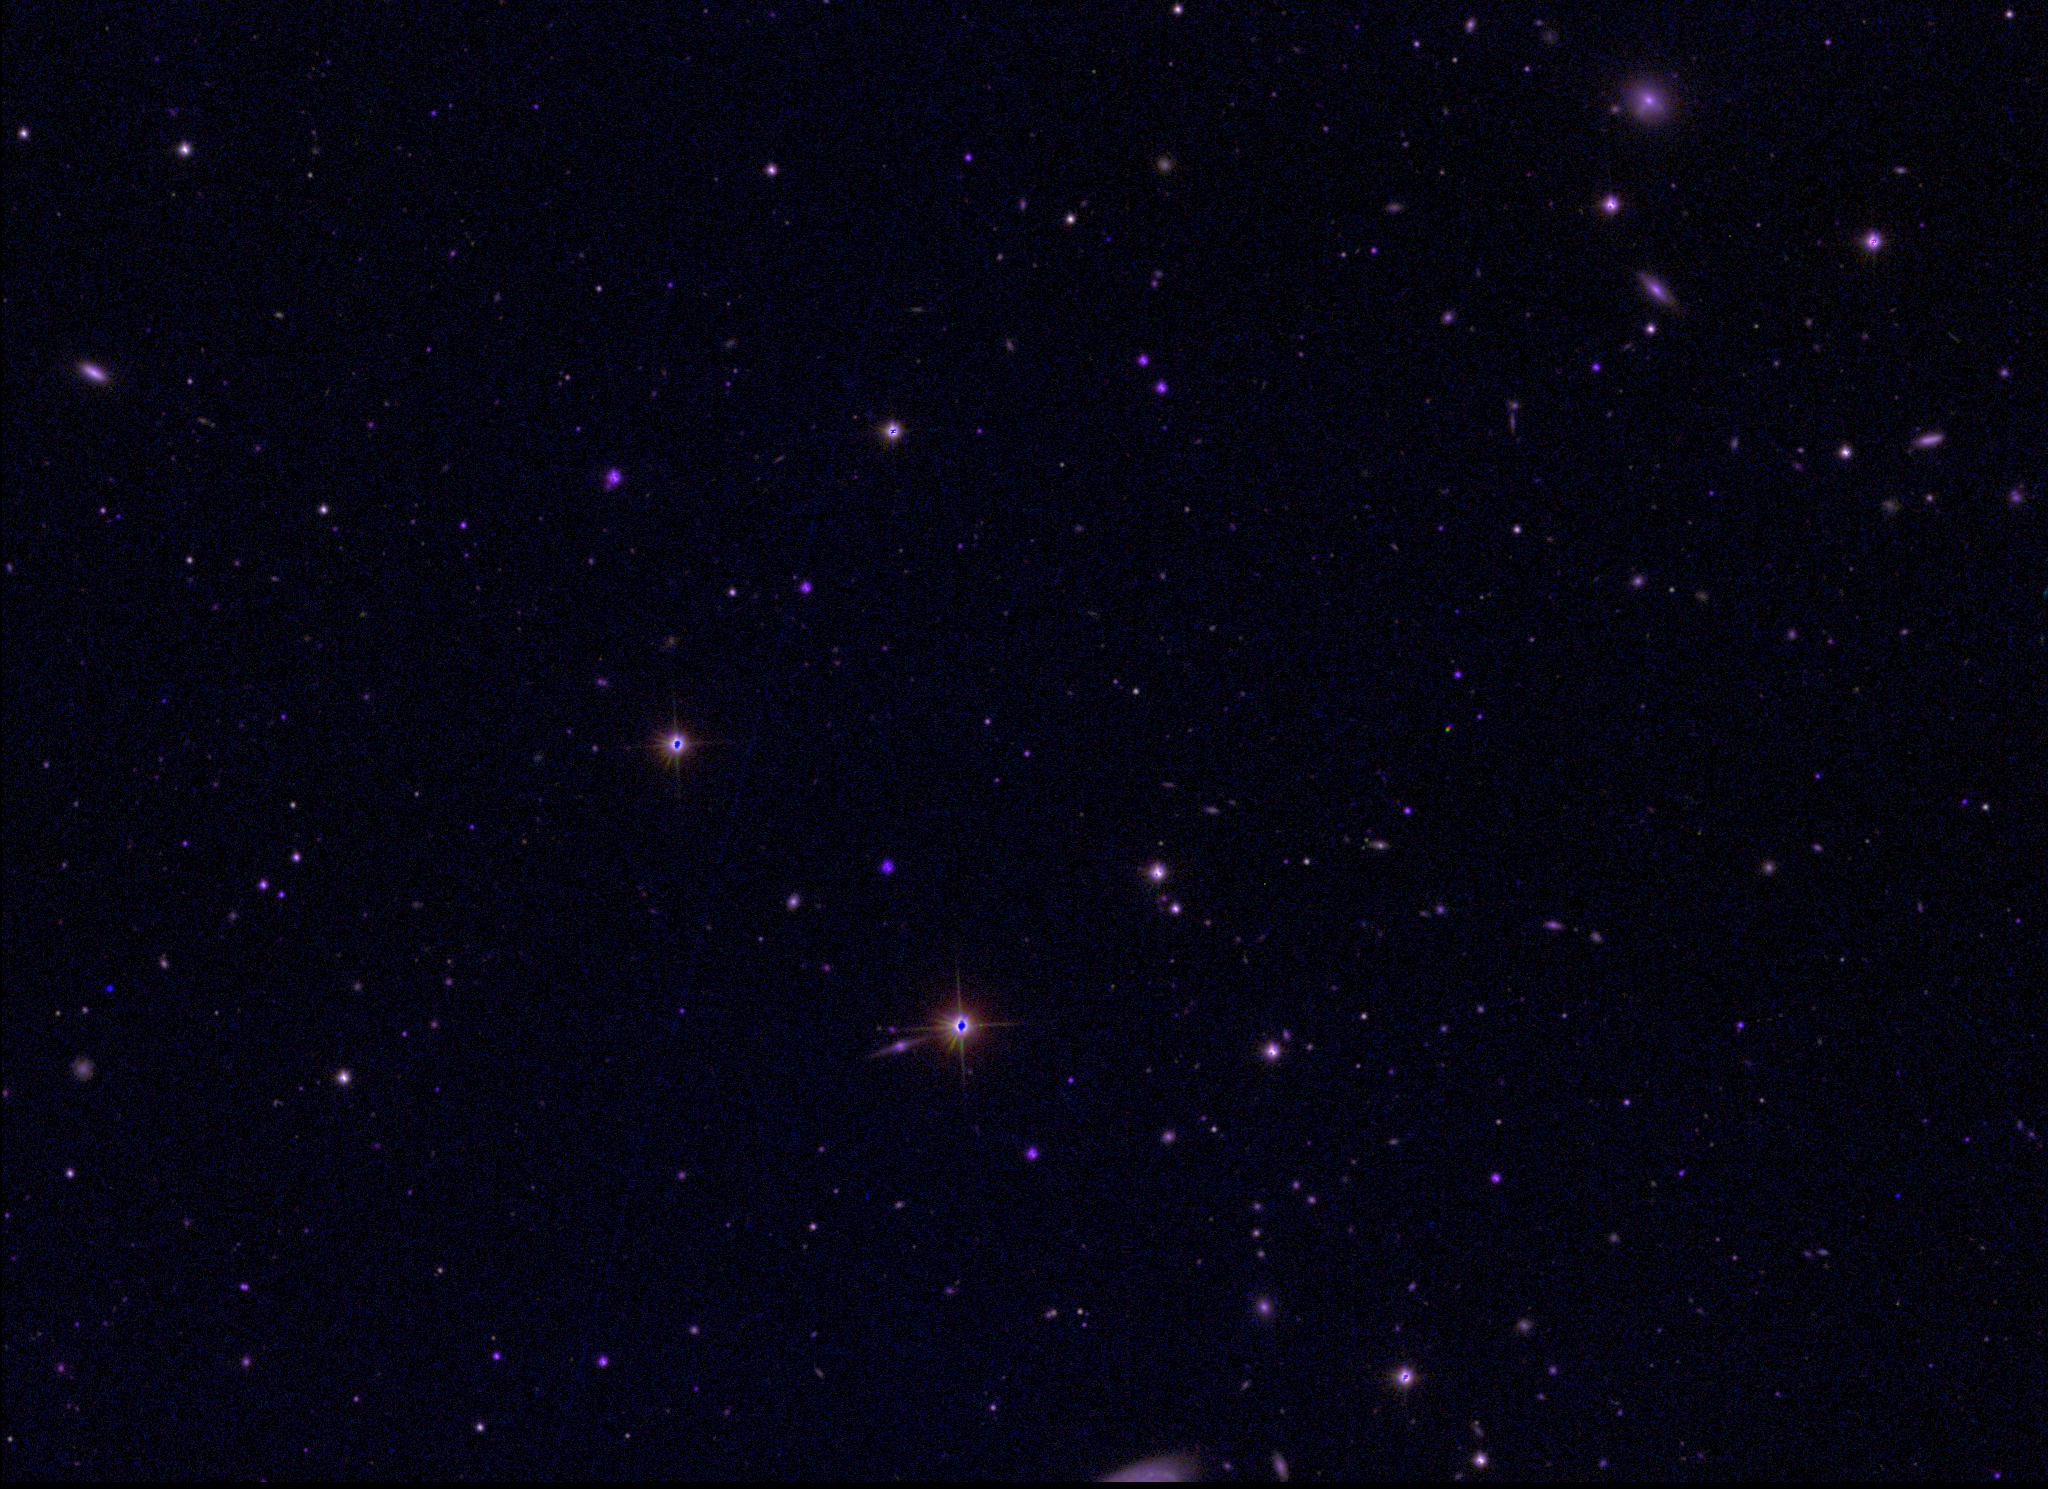L: (103, 982, 118, 994)
